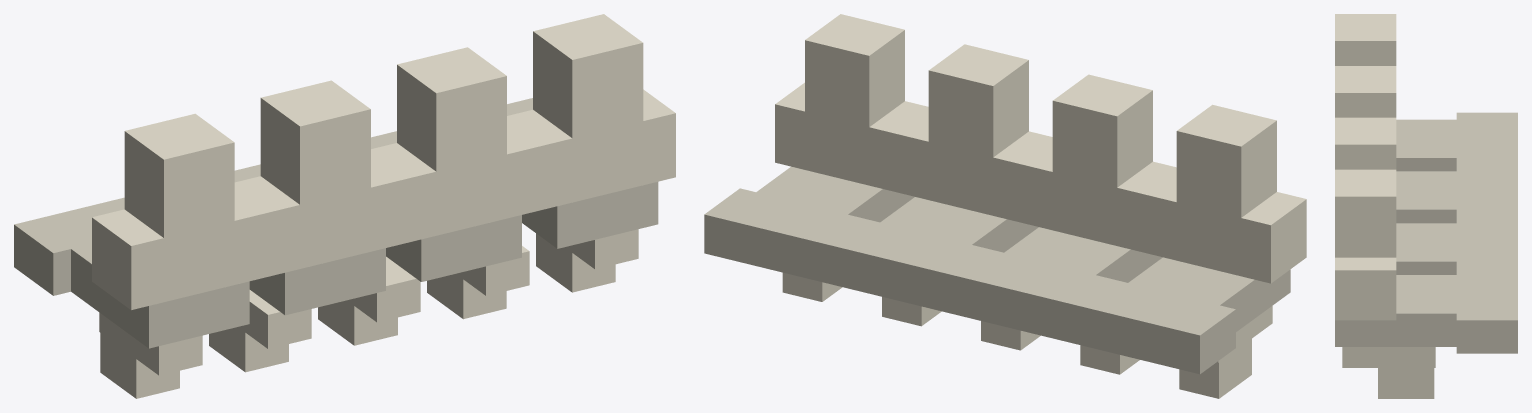
File: machicolation-course.glb
3 renders of one model, left to right at view 1: azimuth 30°, elevation 25°; view 2: azimuth 150°, elevation 25°; view 3: azimuth 270°, elevation 25°, orthographic. The views are drawn at different scales.
Visible parts, largest first — view 1: machicolation-course; view 2: machicolation-course; view 3: machicolation-course.
Part boxes in pixels (x1,y1,x2,y2): machicolation-course: [14, 14, 675, 398]; machicolation-course: [704, 14, 1306, 398]; machicolation-course: [1335, 14, 1517, 398].
Bounding box in the file's own units: 4 × 1.82 × 1.49.
